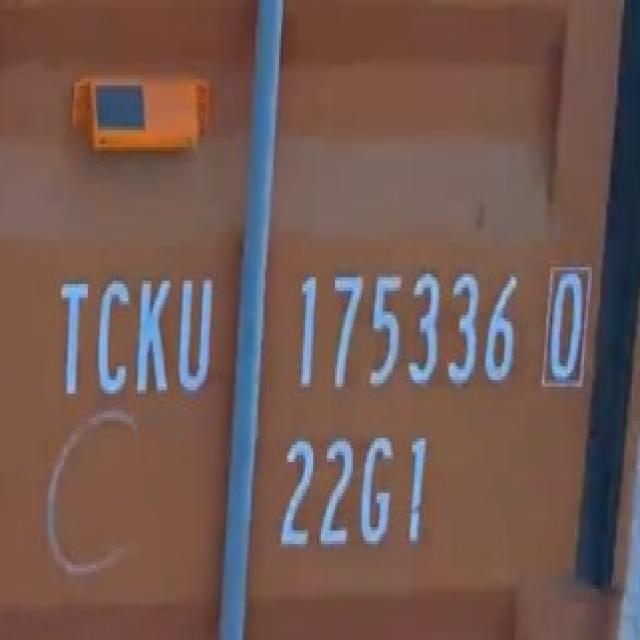dv: (543, 257, 594, 405)
owner: (54, 263, 214, 404)
serial: (292, 253, 519, 397)
size: (269, 424, 430, 563)
